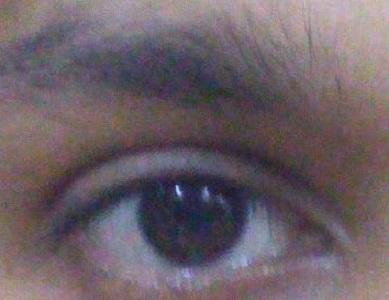open: (9, 109, 360, 290)
